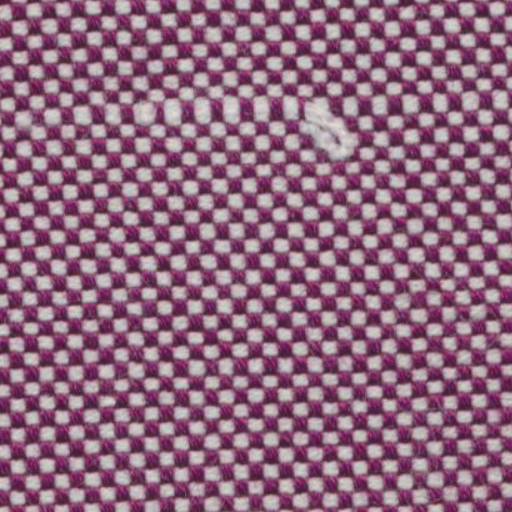DaiSha: (12, 72, 376, 155)
